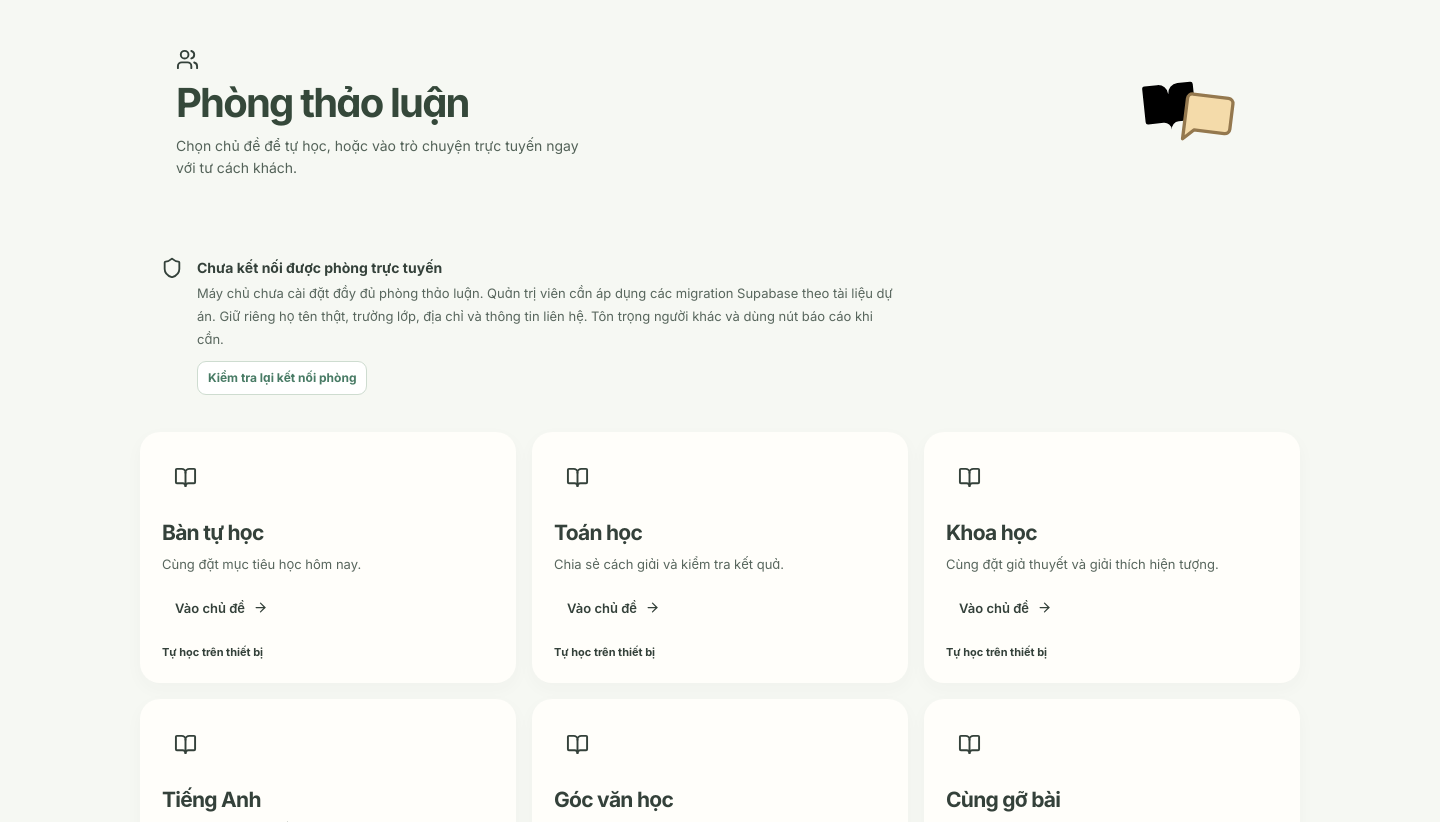
Test: discussion room entry › keeps topics usable and explains missing database migrations
Expected: the text "Máy chủ chưa cài đặt đầy đủ" is shown, [197,286,893,324]
Click the button "Vào chủ đề" below "Cùng đặt mục tiêu học hôm nay." at coordinates (222, 608), box [162,589,281,627]
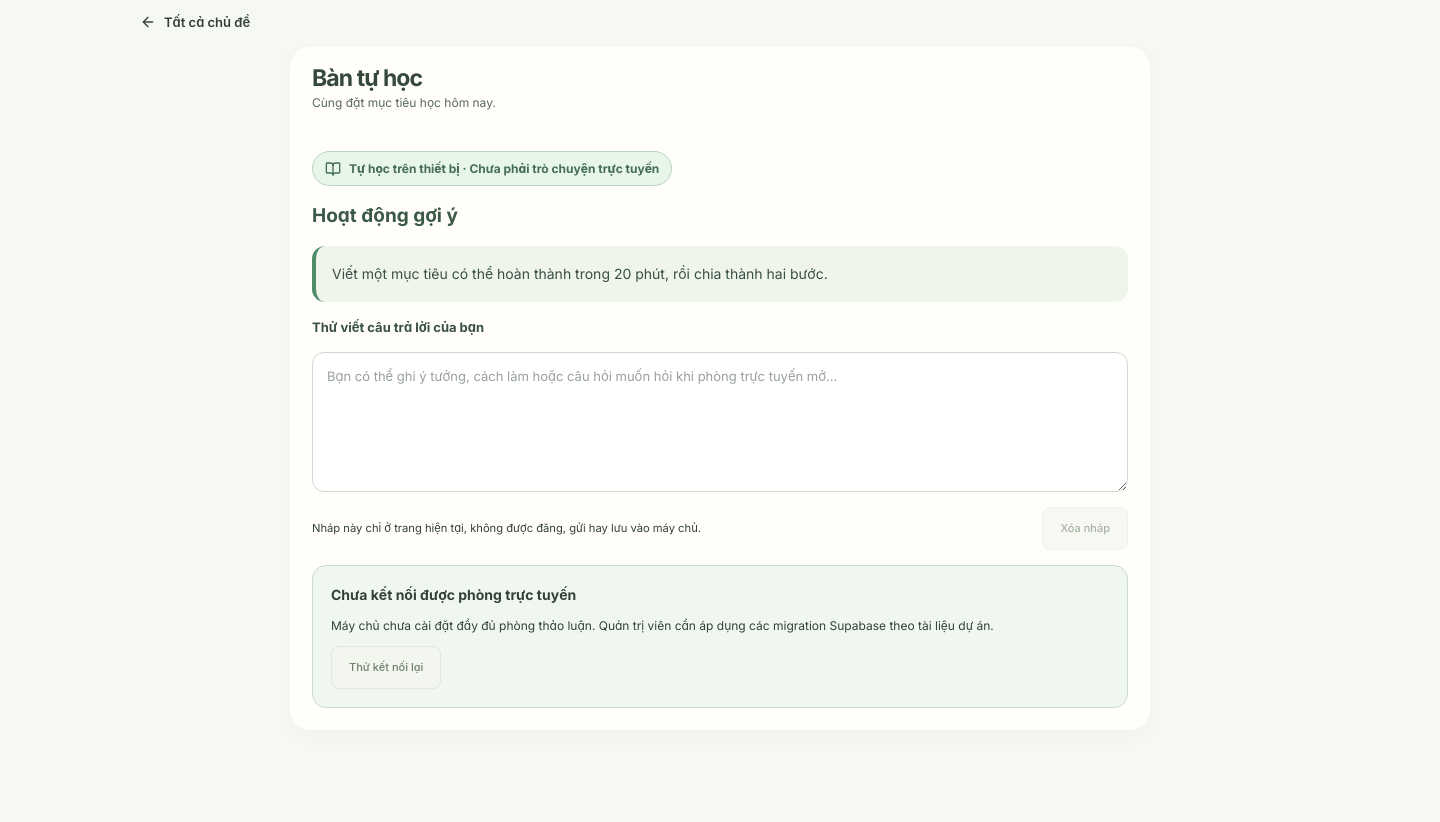
Result: the heading "Bàn tự học" is shown at [312,64,422,92]
Click the button "Thử kết nối lại" at coordinates (386, 668), box [331,646,441,689]
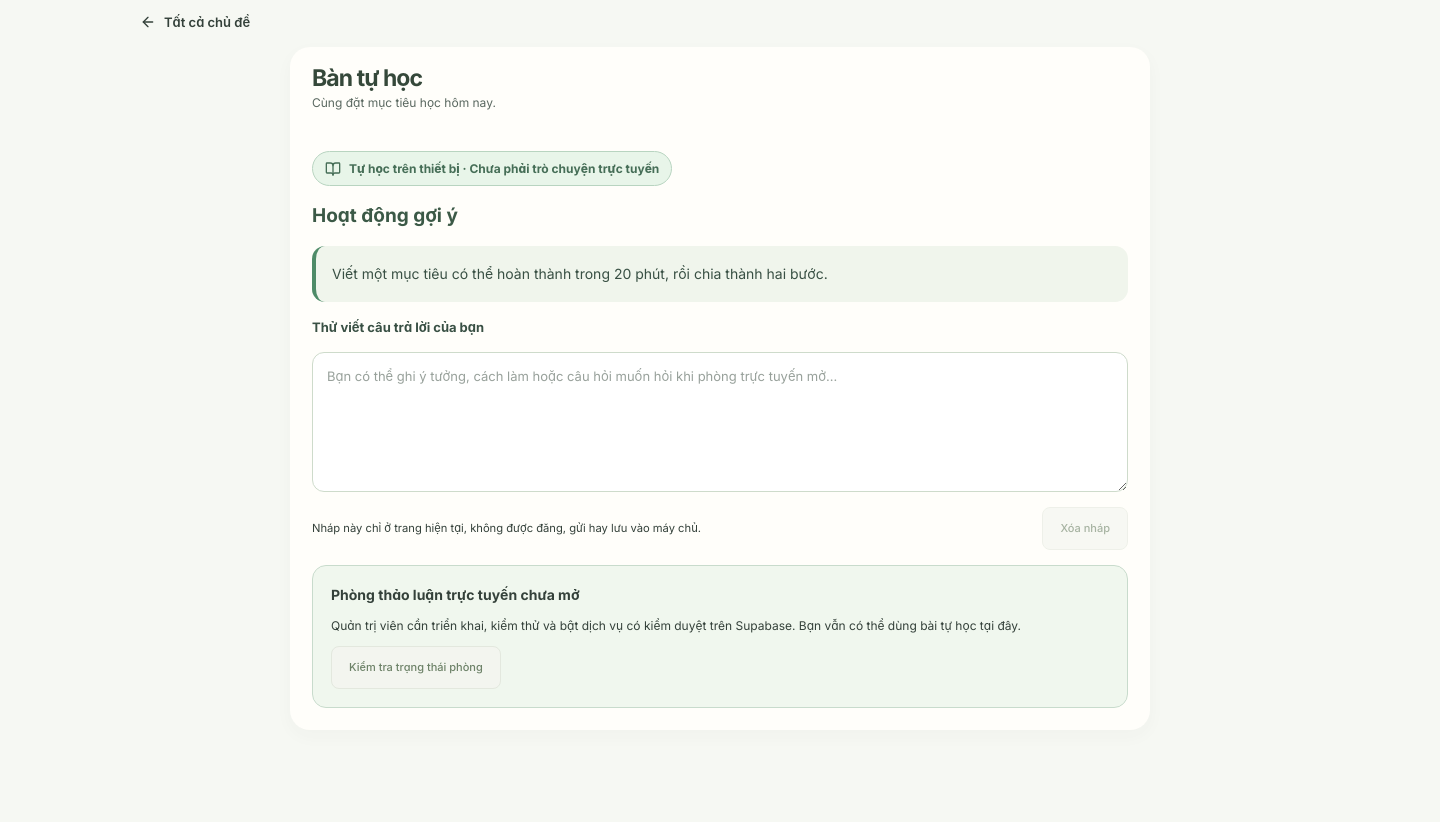
Result: the text "Phòng thảo luận trực tuyến chưa mở" is shown at [331,586,580,603]
